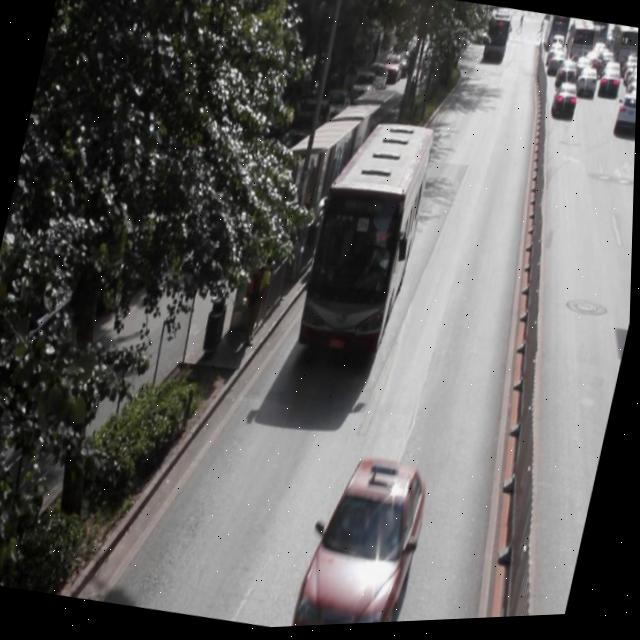car: (294, 449, 433, 629)
van: (296, 115, 436, 366)
